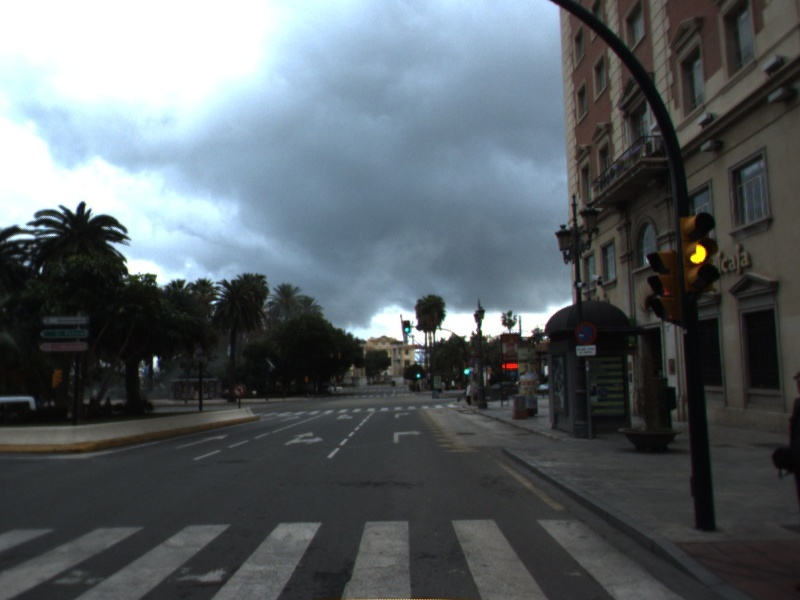RIGHT: (390, 427, 425, 446), (393, 410, 412, 420)
STRAIGHT: (172, 432, 231, 452), (277, 414, 301, 423)
STRAIGHT_RIGHT: (282, 429, 327, 447), (334, 412, 356, 422)
